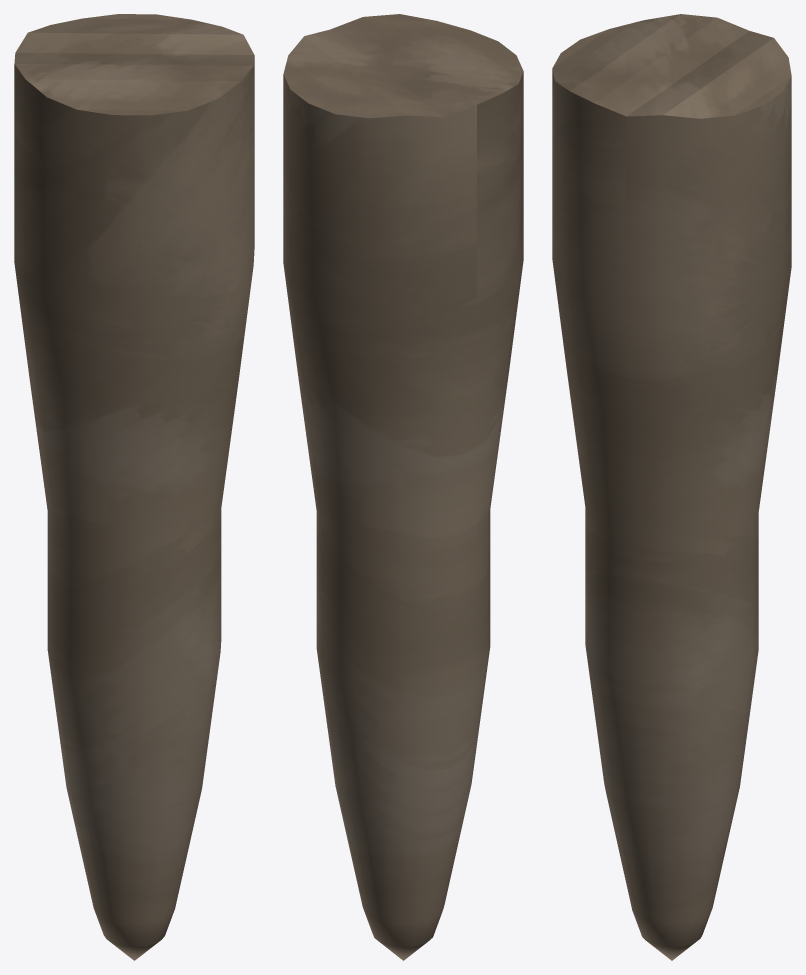
Rendered from stalagtite.fbx.
3 renders of one model, left to right at view 1: azimuth 30°, elevation 25°; view 2: azimuth 150°, elevation 25°; view 3: azimuth 270°, elevation 25°, orthographic.
Parts seen in each view (by area): view 1: Stalagtiet_aa; view 2: Stalagtiet_aa; view 3: Stalagtiet_aa.
Boxes of the visible parts, left/top/right/bottom form: Stalagtiet_aa: left=14, top=14, right=254, bottom=960; Stalagtiet_aa: left=283, top=14, right=523, bottom=960; Stalagtiet_aa: left=552, top=14, right=791, bottom=960.
Size of the model in its own units: 4.09 by 16.91 by 4.09.
